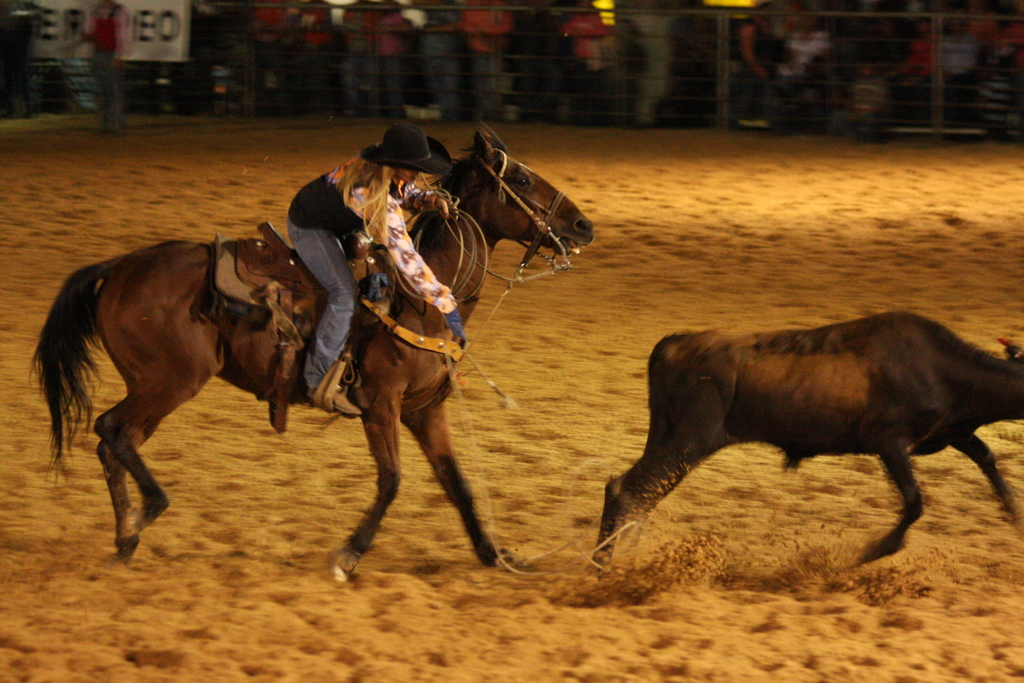Person: (0, 0, 1024, 136), (275, 120, 473, 415)
